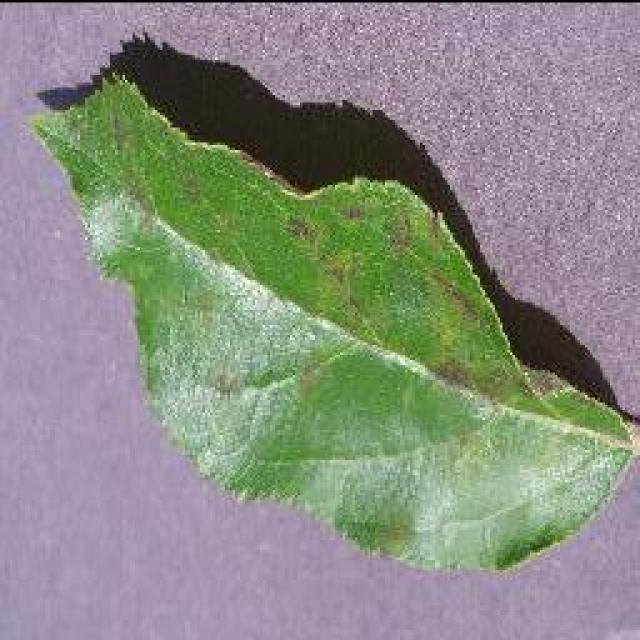apple scab disease: (25, 33, 637, 575)
